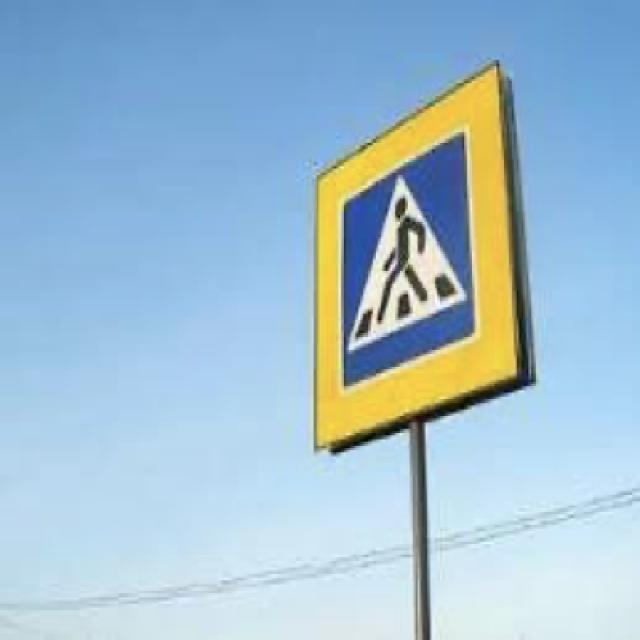crosswalk_sign: (337, 122, 479, 392)
